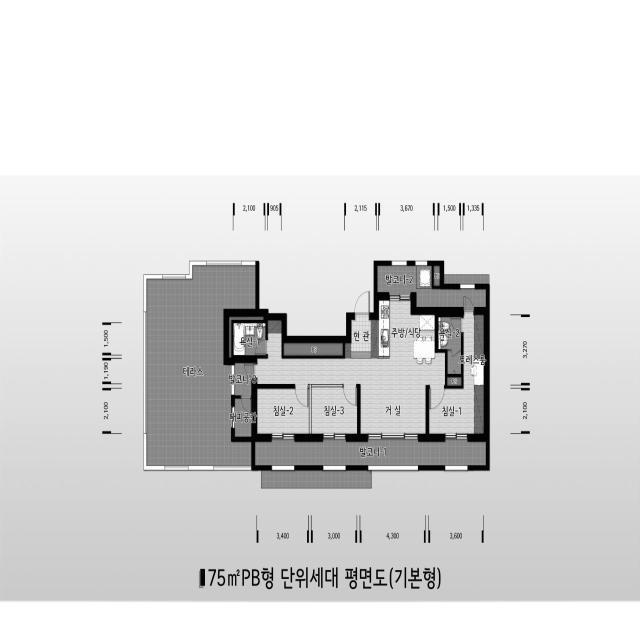background: (1, 0, 640, 638)
space_balconi: (255, 439, 486, 466), (377, 266, 486, 307), (234, 362, 251, 395)
space_bedroom: (429, 388, 484, 435), (256, 387, 310, 434), (311, 386, 358, 434)
space_dressroom: (463, 314, 484, 388)
space_front: (345, 319, 377, 358)
space_kitchen: (378, 300, 445, 359)
space_living_room: (256, 320, 445, 434)
space_other: (283, 343, 343, 356), (234, 398, 252, 437), (433, 266, 440, 286), (447, 377, 462, 386)
space_toilet: (438, 317, 461, 374), (233, 322, 266, 355)
